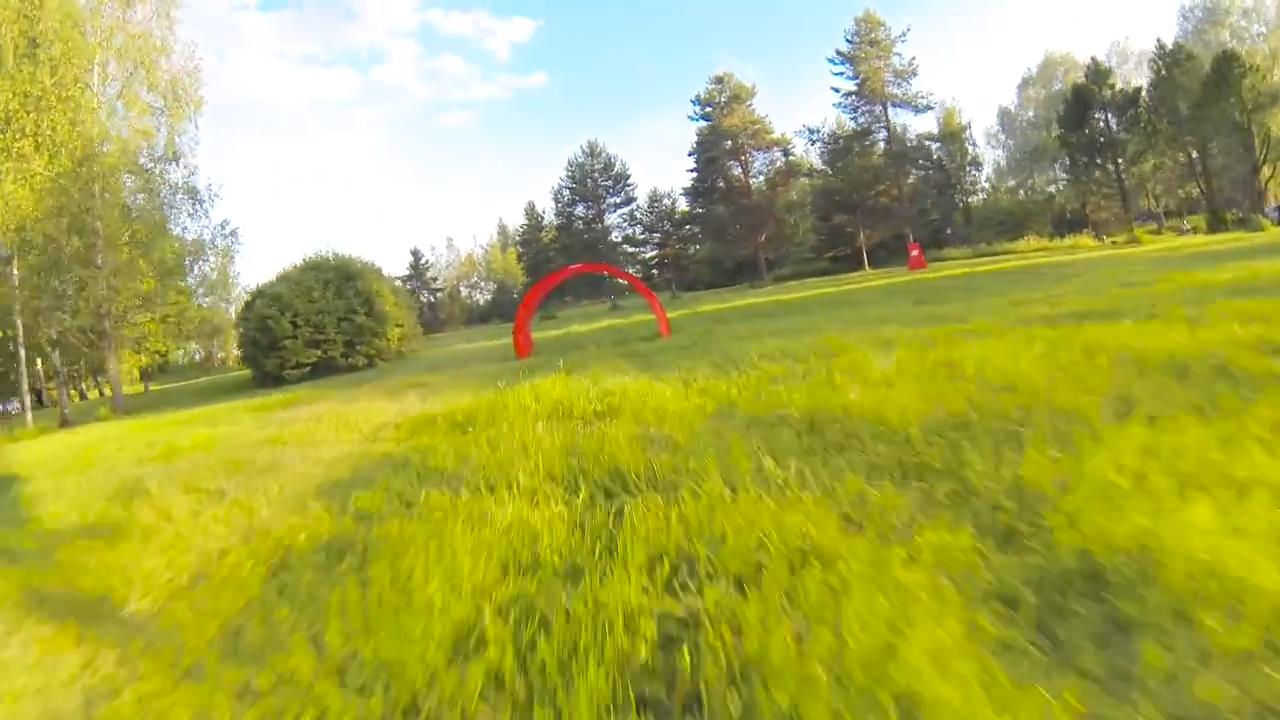gate: (508, 259, 678, 361)
